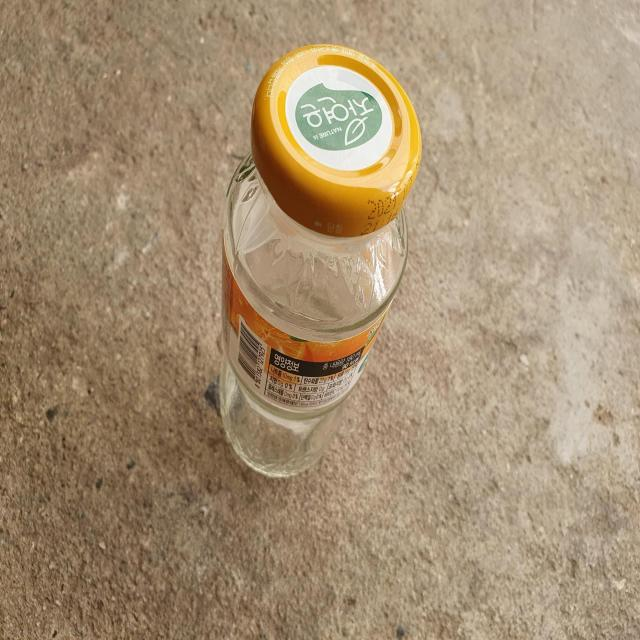glass: (220, 43, 422, 477)
